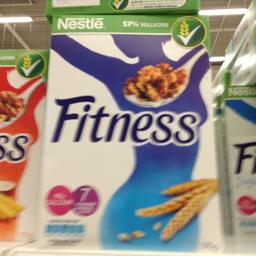cereal: (39, 12, 225, 250)
